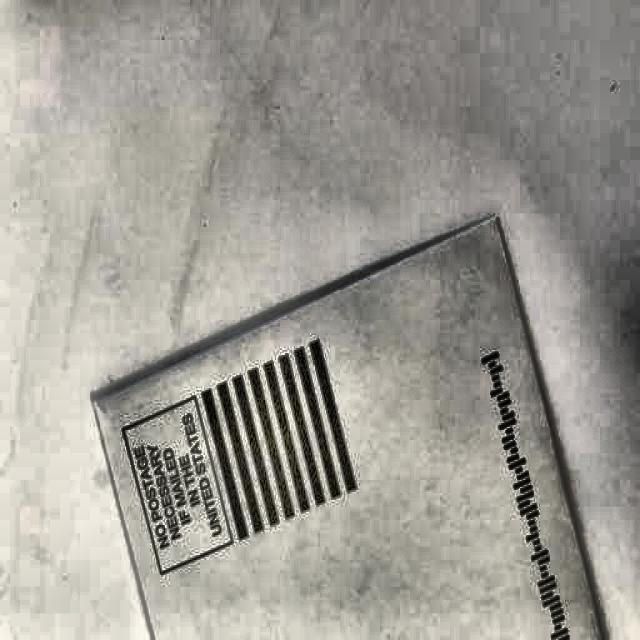paper: (89, 221, 612, 640)
